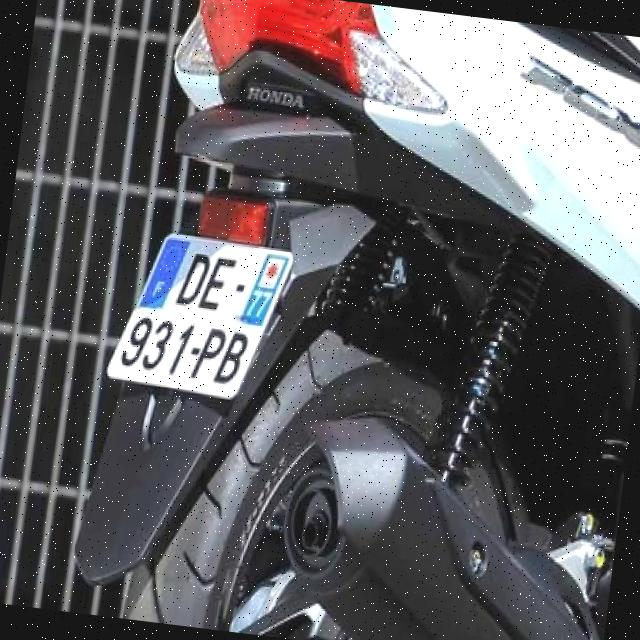EU: (105, 230, 304, 395)
France: (141, 229, 194, 309)
